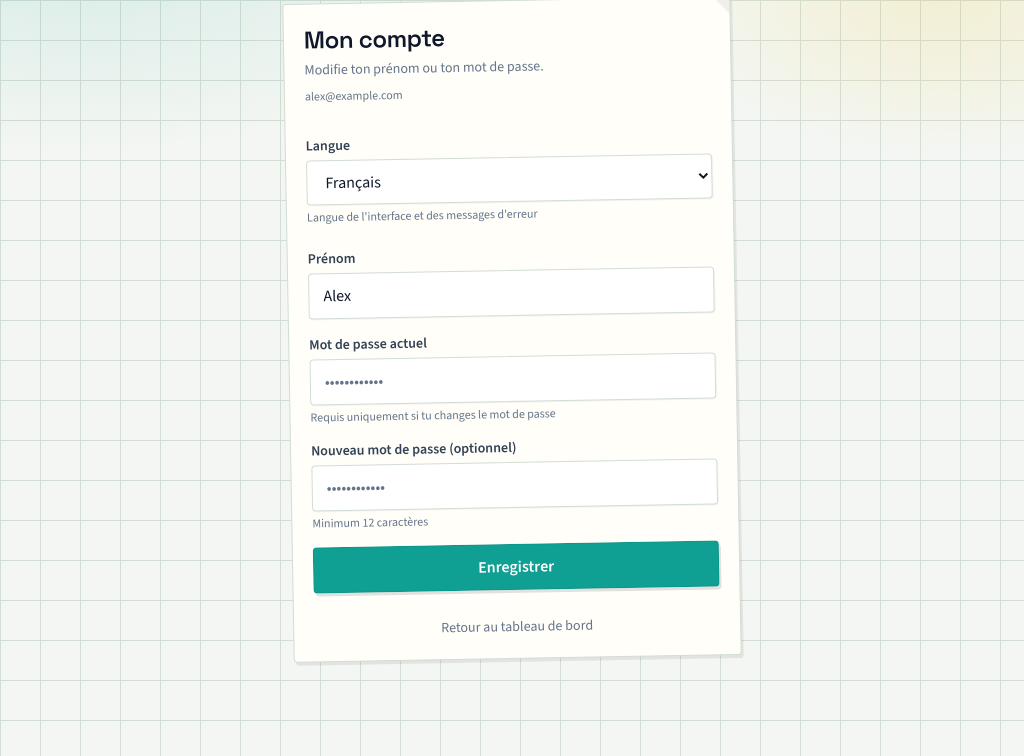
Test: AccountSettingsForm › vérifie la confirmation du mot de passe
In the password field labelled "Nouveau mot de passe (optionnel)": (515, 485) [311, 458, 718, 512], type "nouveau-mdp-solide"
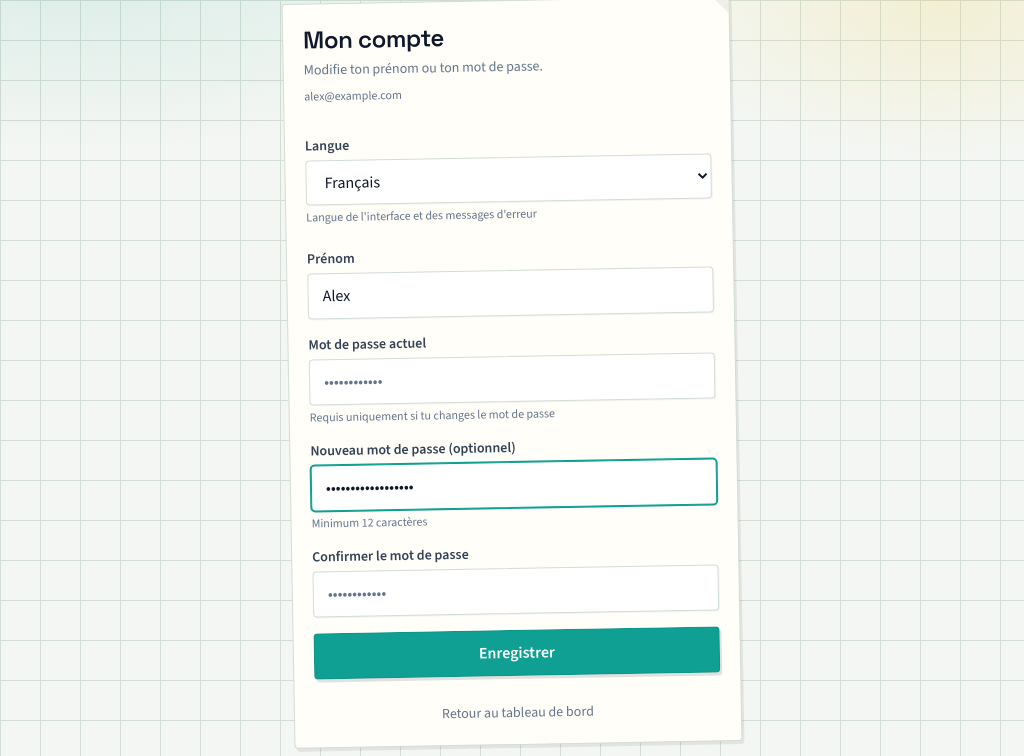
In the password field labelled "Confirmer le mot de passe": (516, 591) [312, 564, 719, 618], type "autre-mdp-solide!"
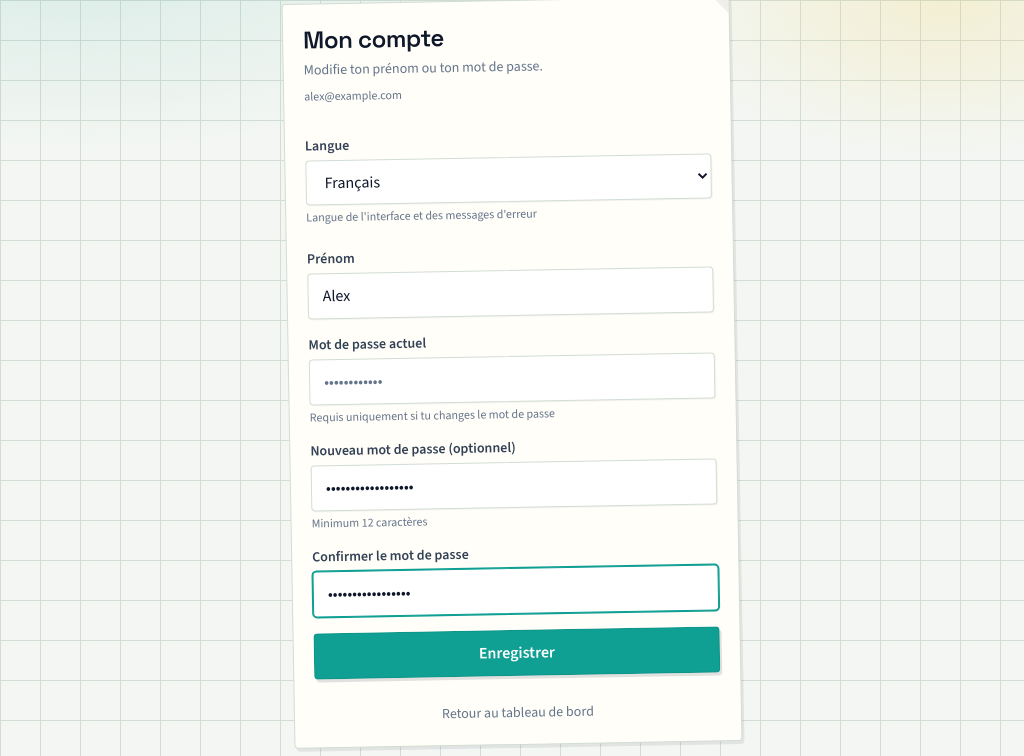
Click the button "Enregistrer": (517, 653) [314, 626, 720, 680]
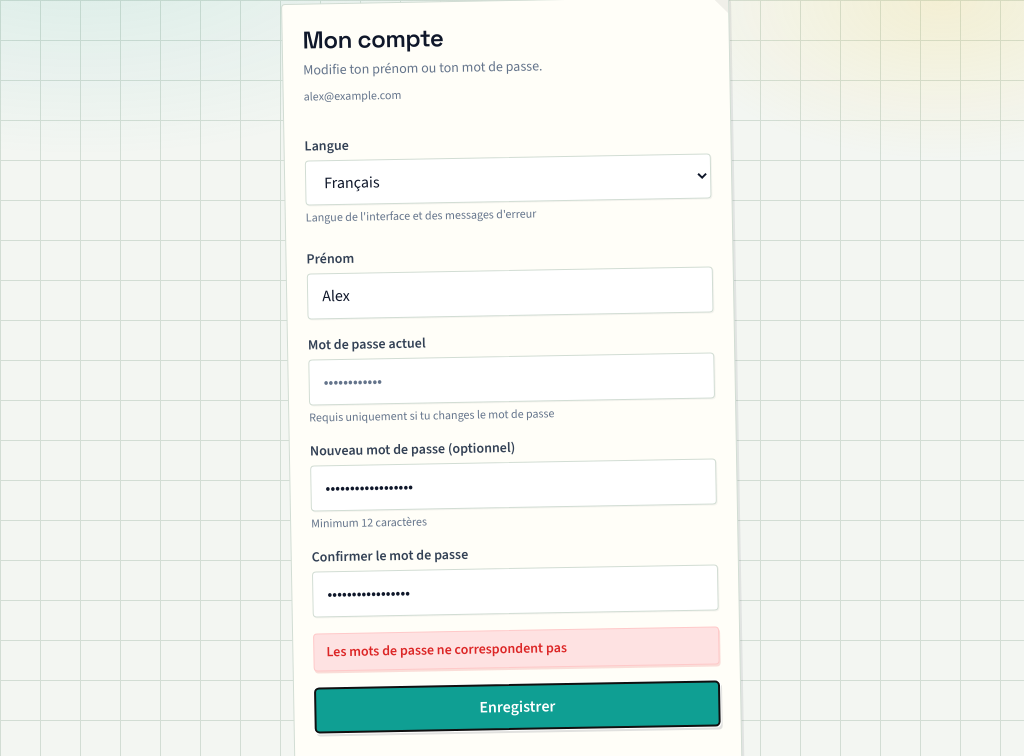
Result: the message reads "Les mots de passe ne correspondent pas" at [326, 638, 567, 661]
